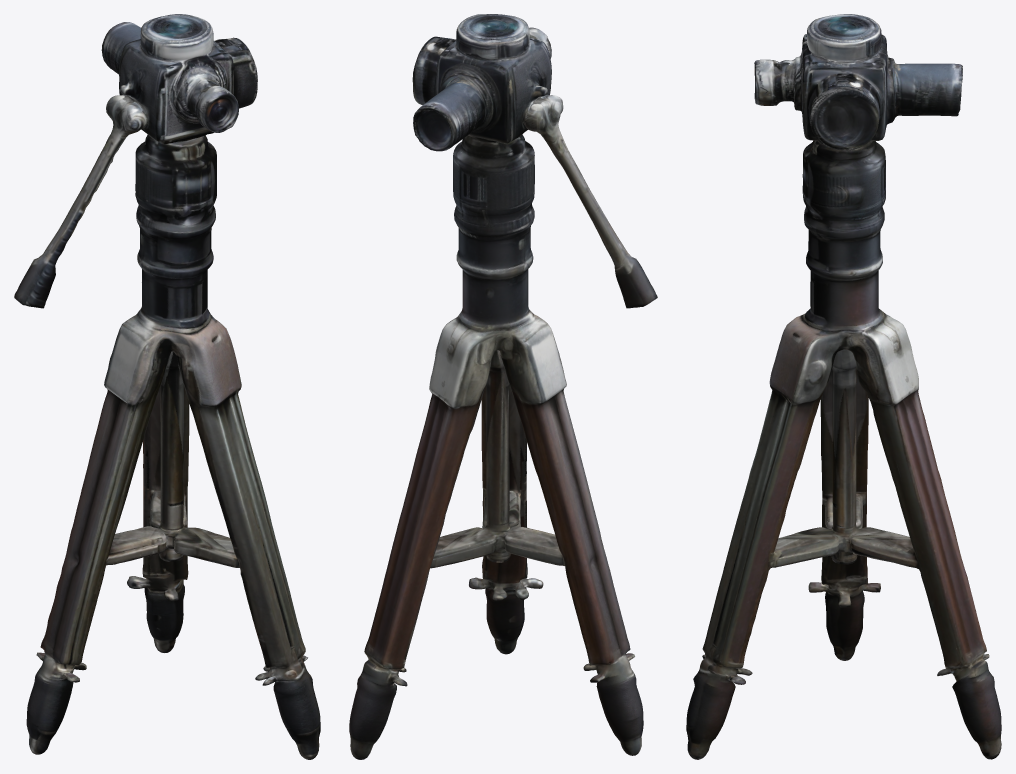
The model's file is sancamera.glb.
3 renders of one model, left to right at view 1: azimuth 30°, elevation 25°; view 2: azimuth 150°, elevation 25°; view 3: azimuth 270°, elevation 25°, orthographic.
Size of the model in its own units: 0.7148 by 2 by 0.8137.
Materials: 1 (1 with a texture image).
